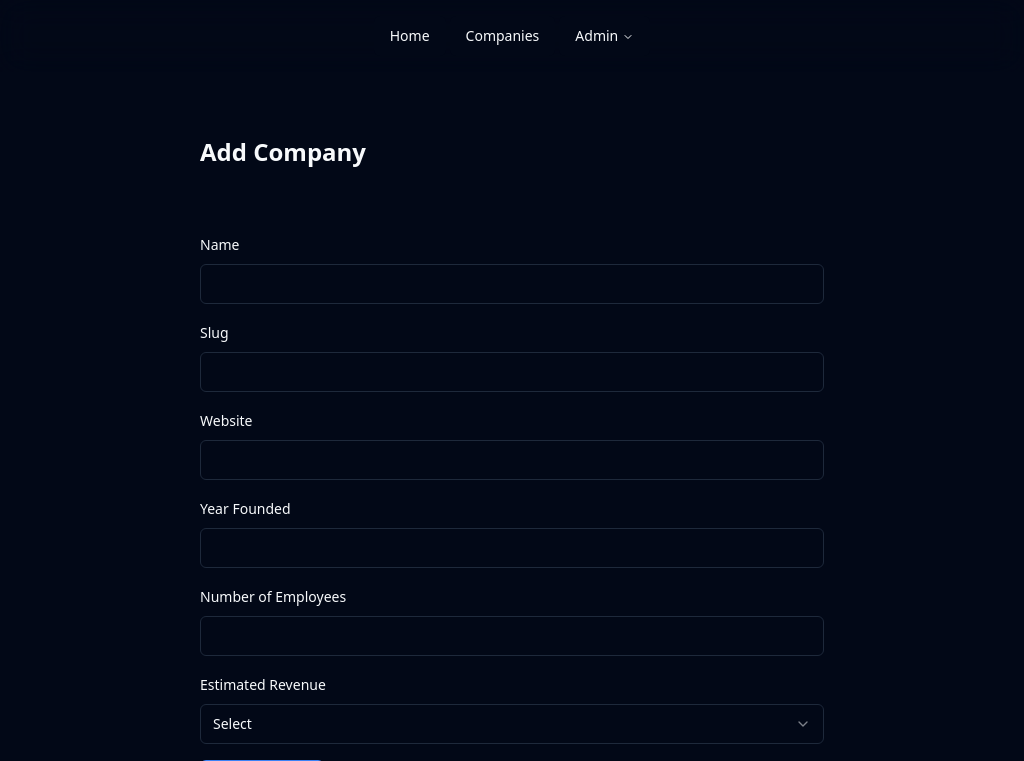
Test: Company Form Page › should show error when number of employees is negative
Type "-500" into the number field named "numberOfEmployees" at (512, 636), box [200,616,824,656]
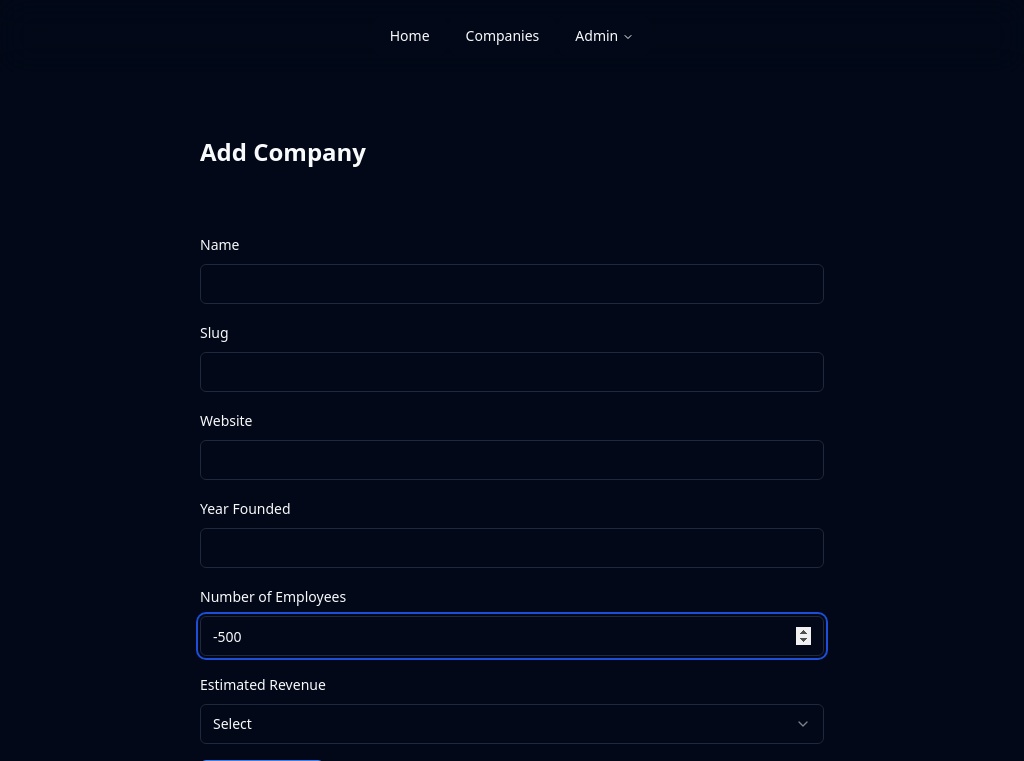
Scroll
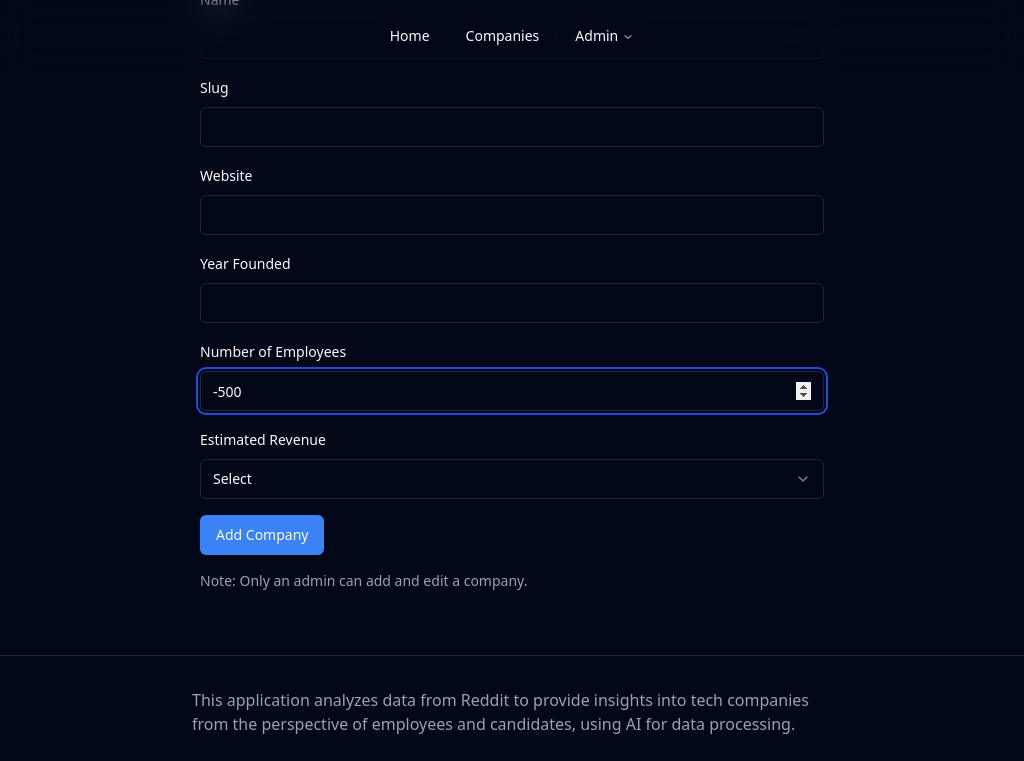
Click the submit button at (263, 535), box [200,515,325,555]
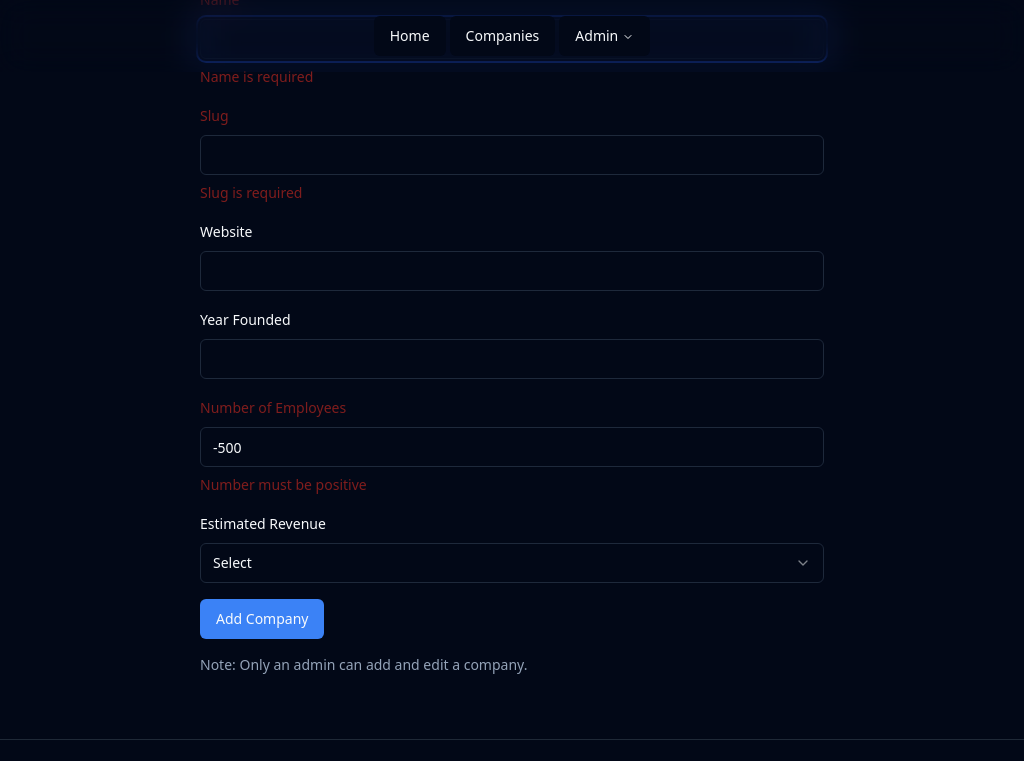
Now the text "Number must be positive" is shown, box [200,475,367,494]
